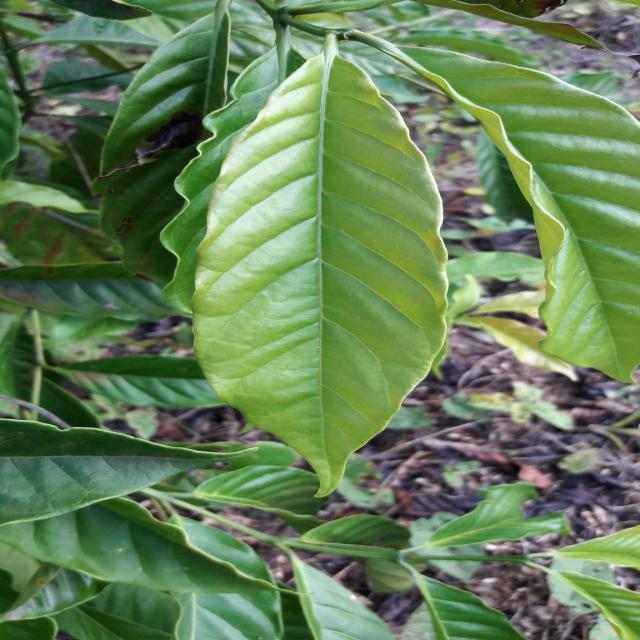Sanas: (192, 40, 452, 499)
